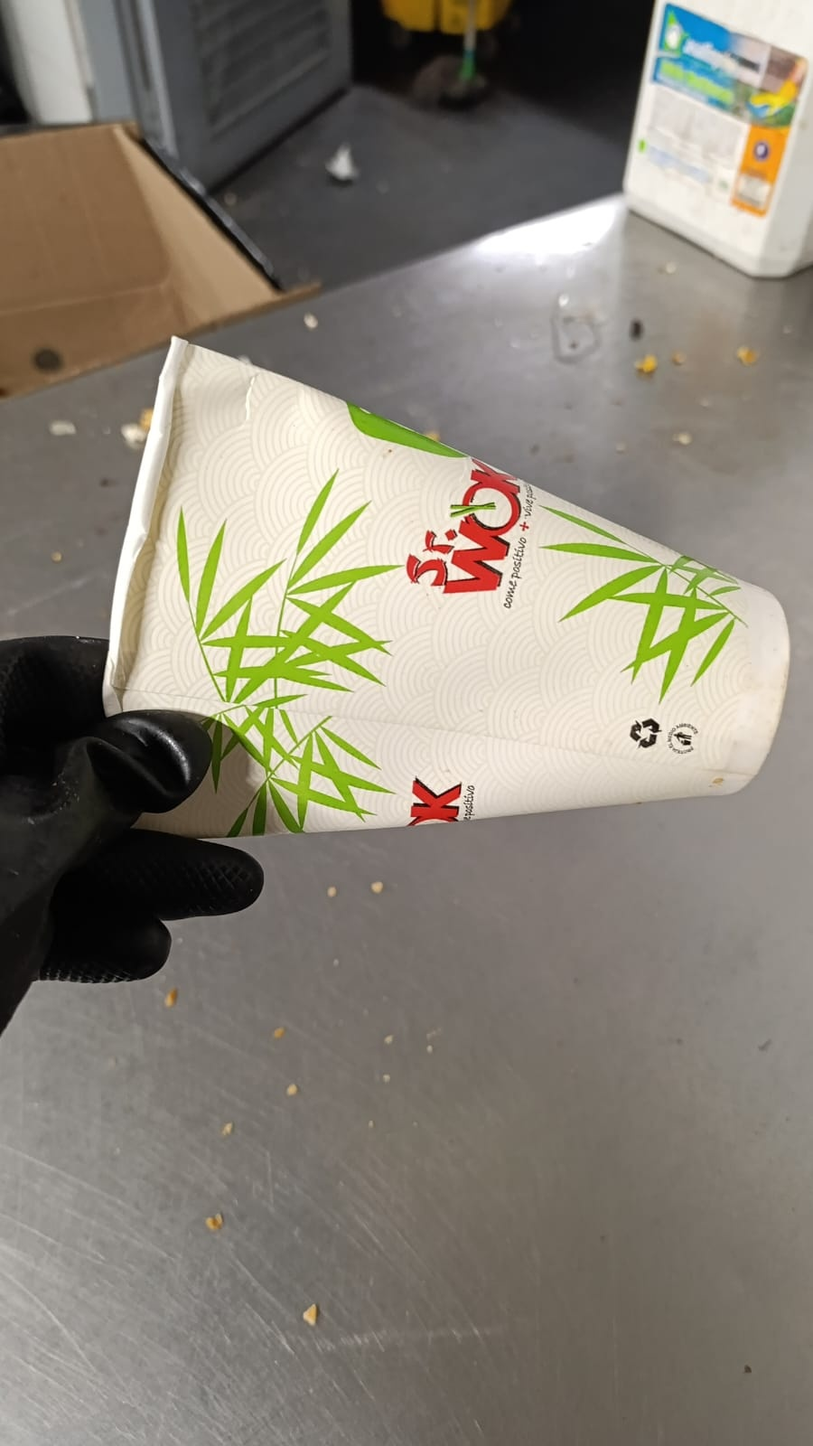Carton: (101, 331, 790, 833)
